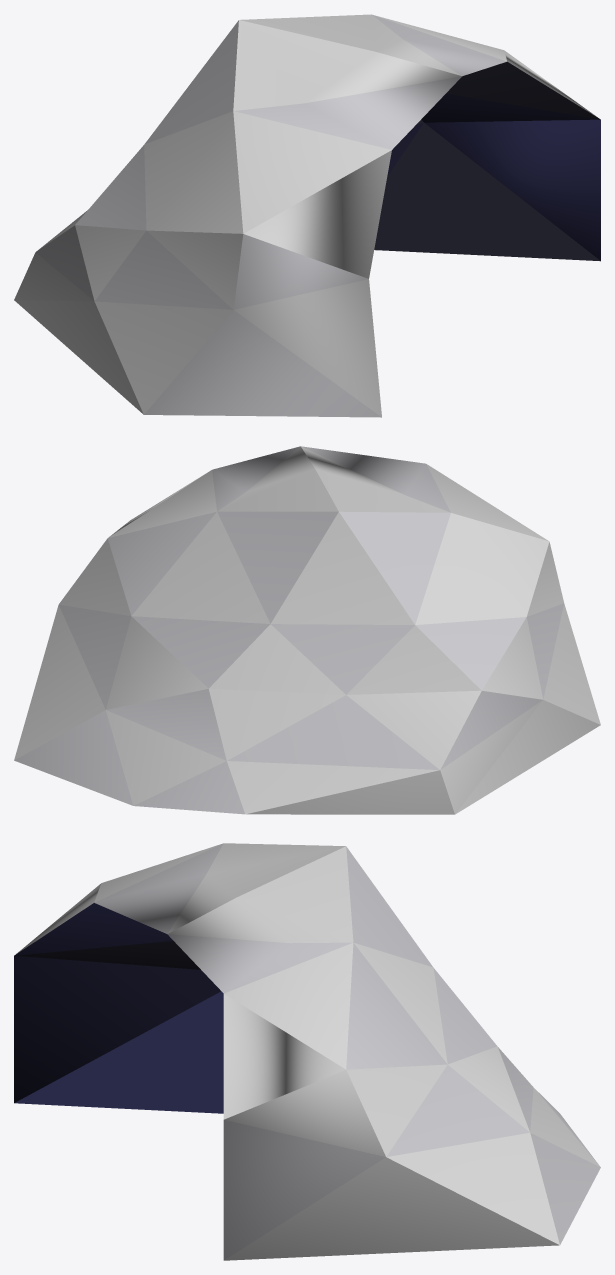
The model's file is cave.fbx.
The picture shows the model from 3 angles, top to bottom: view 1: azimuth 30°, elevation 25°; view 2: azimuth 150°, elevation 25°; view 3: azimuth 270°, elevation 25°; orthographic projection. The views are drawn at different scales.
Parts seen in each view (by area): view 1: pPlatonic1; view 2: pPlatonic1; view 3: pPlatonic1.
Boxes of the visible parts, left/top/right/bottom form: pPlatonic1: left=14, top=14, right=600, bottom=417; pPlatonic1: left=14, top=446, right=600, bottom=814; pPlatonic1: left=14, top=843, right=600, bottom=1260.
Bounding box in the file's own units: 2593 × 1348 × 2652.
